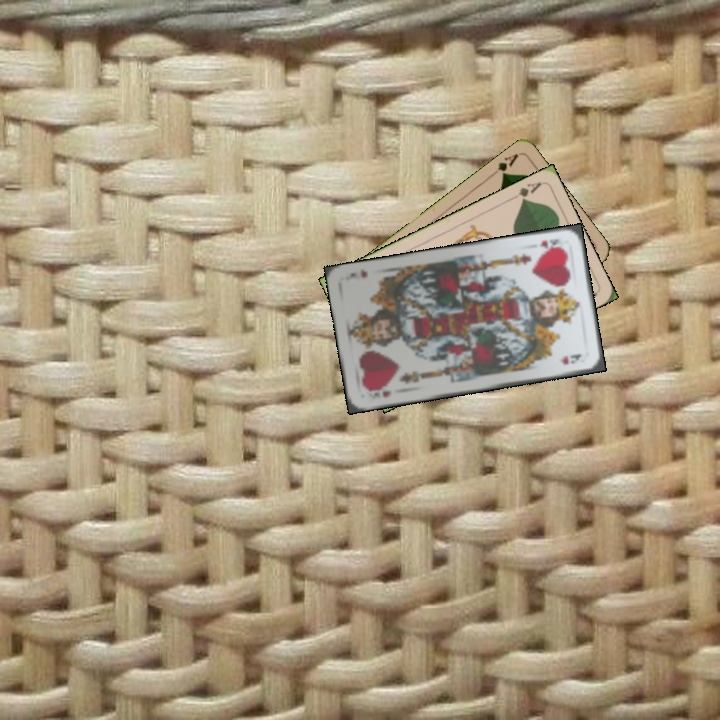GA: (486, 149, 521, 180), (506, 178, 544, 205)
HK: (535, 235, 565, 253), (364, 385, 394, 400)
